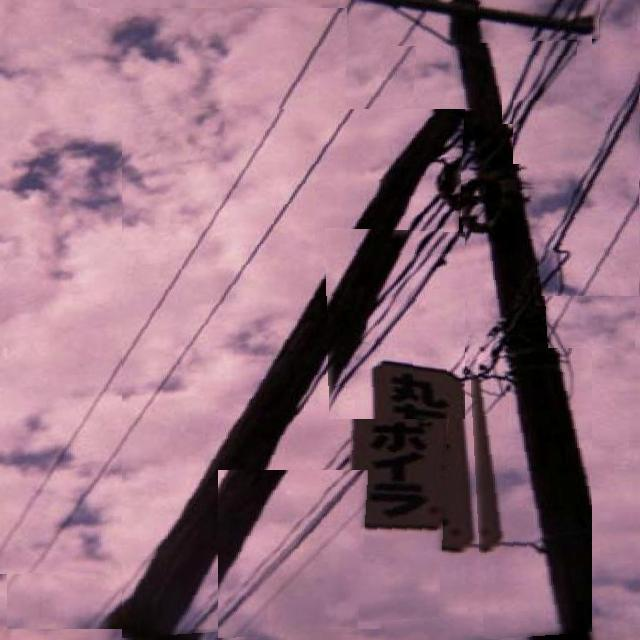crossarm: (386, 0, 600, 41)
pole: (122, 109, 465, 639), (452, 2, 592, 636)
wire: (7, 37, 417, 595), (0, 8, 342, 556), (328, 232, 465, 419), (218, 470, 369, 637), (537, 76, 639, 296), (545, 182, 635, 348), (513, 34, 577, 164), (502, 0, 569, 124)
